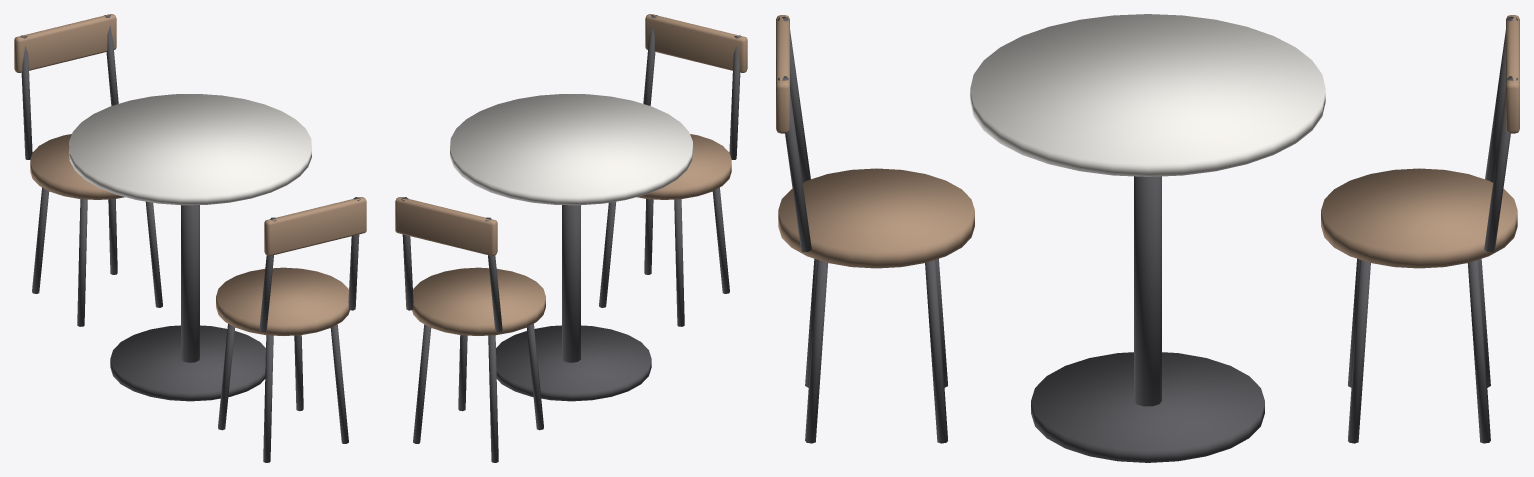
The model's file is bistro_set.glb.
3 renders of one model, left to right at view 1: azimuth 30°, elevation 25°; view 2: azimuth 150°, elevation 25°; view 3: azimuth 270°, elevation 25°, orthographic. The views are drawn at different scales.
Visible parts, largest first — view 1: Cylinder, Cylinder.002, Cylinder.003, Cube, Cube.001, Cylinder.001, Cylinder.010, Cylinder.006, Cylinder.013, Cylinder.007, Cylinder.015, Cylinder.005 (+7 smaller); view 2: Cylinder, Cylinder.002, Cylinder.010, Cube.001, Cube, Cylinder.001, Cylinder.003, Cylinder.012, Cylinder.005, Cylinder.011, Cylinder.008, Cylinder.013 (+7 smaller); view 3: Cylinder, Cylinder.002, Cylinder.003, Cylinder.010, Cylinder.001, Cylinder.007, Cylinder.011, Cylinder.004, Cylinder.014, Cube, Cube.001, Cylinder.009 (+3 smaller).
Part boxes in pixels (x1=…): Cylinder: x1=69, y1=94, x2=311, y2=205; Cylinder.002: x1=110, y1=325, x2=265, y2=401; Cylinder.003: x1=216, y1=267, x2=349, y2=335; Cube: x1=264, y1=197, x2=366, y2=255; Cube.001: x1=14, y1=14, x2=116, y2=72; Cylinder.001: x1=181, y1=205, x2=199, y2=362; Cylinder.010: x1=30, y1=134, x2=124, y2=199; Cylinder.006: x1=263, y1=335, x2=273, y2=462; Cylinder.013: x1=77, y1=199, x2=87, y2=326; Cylinder.007: x1=330, y1=324, x2=348, y2=443; Cylinder.015: x1=20, y1=35, x2=32, y2=159; Cylinder.005: x1=218, y1=323, x2=235, y2=430; Cylinder: x1=450, y1=94, x2=692, y2=205; Cylinder.002: x1=496, y1=325, x2=651, y2=401; Cylinder.010: x1=412, y1=267, x2=545, y2=335; Cube.001: x1=395, y1=197, x2=497, y2=255; Cube: x1=645, y1=14, x2=747, y2=72; Cylinder.001: x1=562, y1=205, x2=580, y2=362; Cylinder.003: x1=637, y1=134, x2=731, y2=199; Cylinder.012: x1=488, y1=335, x2=498, y2=462; Cylinder.005: x1=674, y1=199, x2=684, y2=326; Cylinder.011: x1=413, y1=324, x2=431, y2=443; Cylinder.008: x1=729, y1=35, x2=741, y2=159; Cylinder.013: x1=526, y1=323, x2=543, y2=430; Cylinder: x1=970, y1=14, x2=1325, y2=176; Cylinder.002: x1=1031, y1=352, x2=1264, y2=462; Cylinder.003: x1=778, y1=168, x2=974, y2=268; Cylinder.010: x1=1321, y1=168, x2=1517, y2=268; Cylinder.001: x1=1134, y1=176, x2=1161, y2=406; Cylinder.007: x1=805, y1=259, x2=828, y2=443; Cylinder.011: x1=1467, y1=259, x2=1490, y2=443; Cylinder.004: x1=925, y1=260, x2=947, y2=443; Cylinder.014: x1=1348, y1=260, x2=1370, y2=443; Cube: x1=776, y1=15, x2=789, y2=133; Cube.001: x1=1506, y1=15, x2=1519, y2=133; Cylinder.009: x1=778, y1=76, x2=811, y2=252.
Bounding box in the file's own units: 0.76 × 0.8626 × 1.59.
